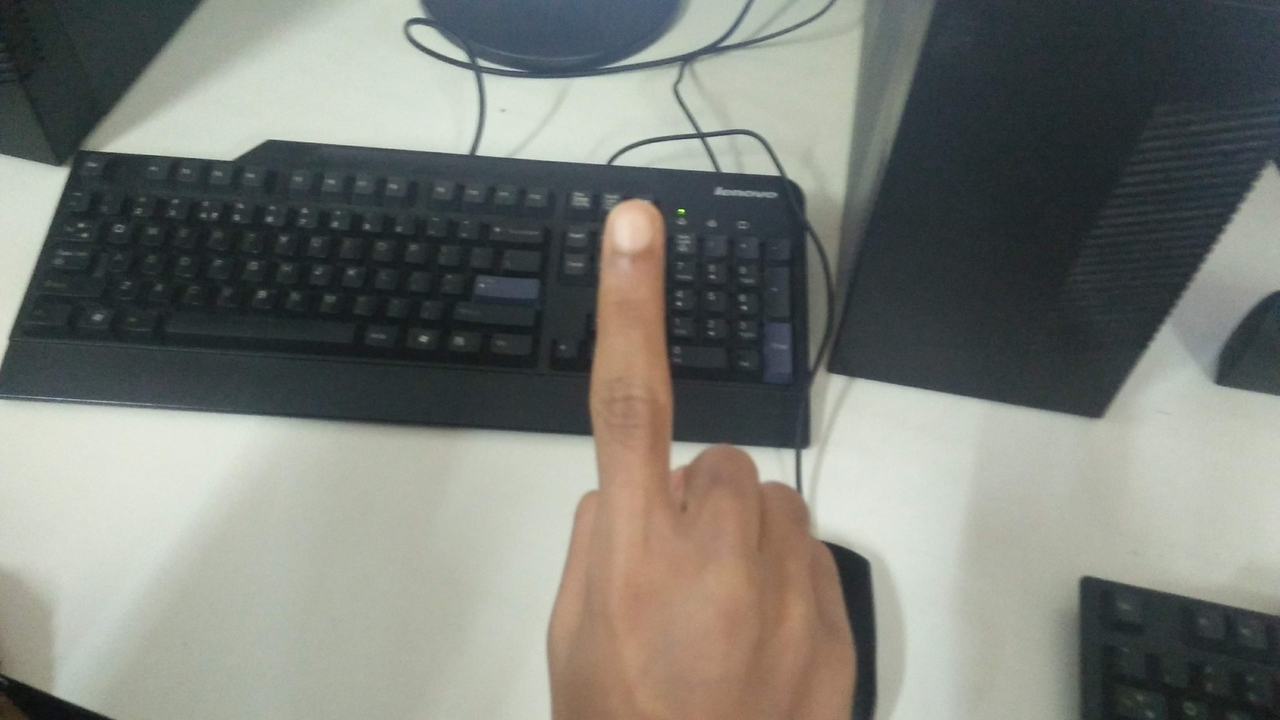fingertip: (594, 200, 664, 270)
